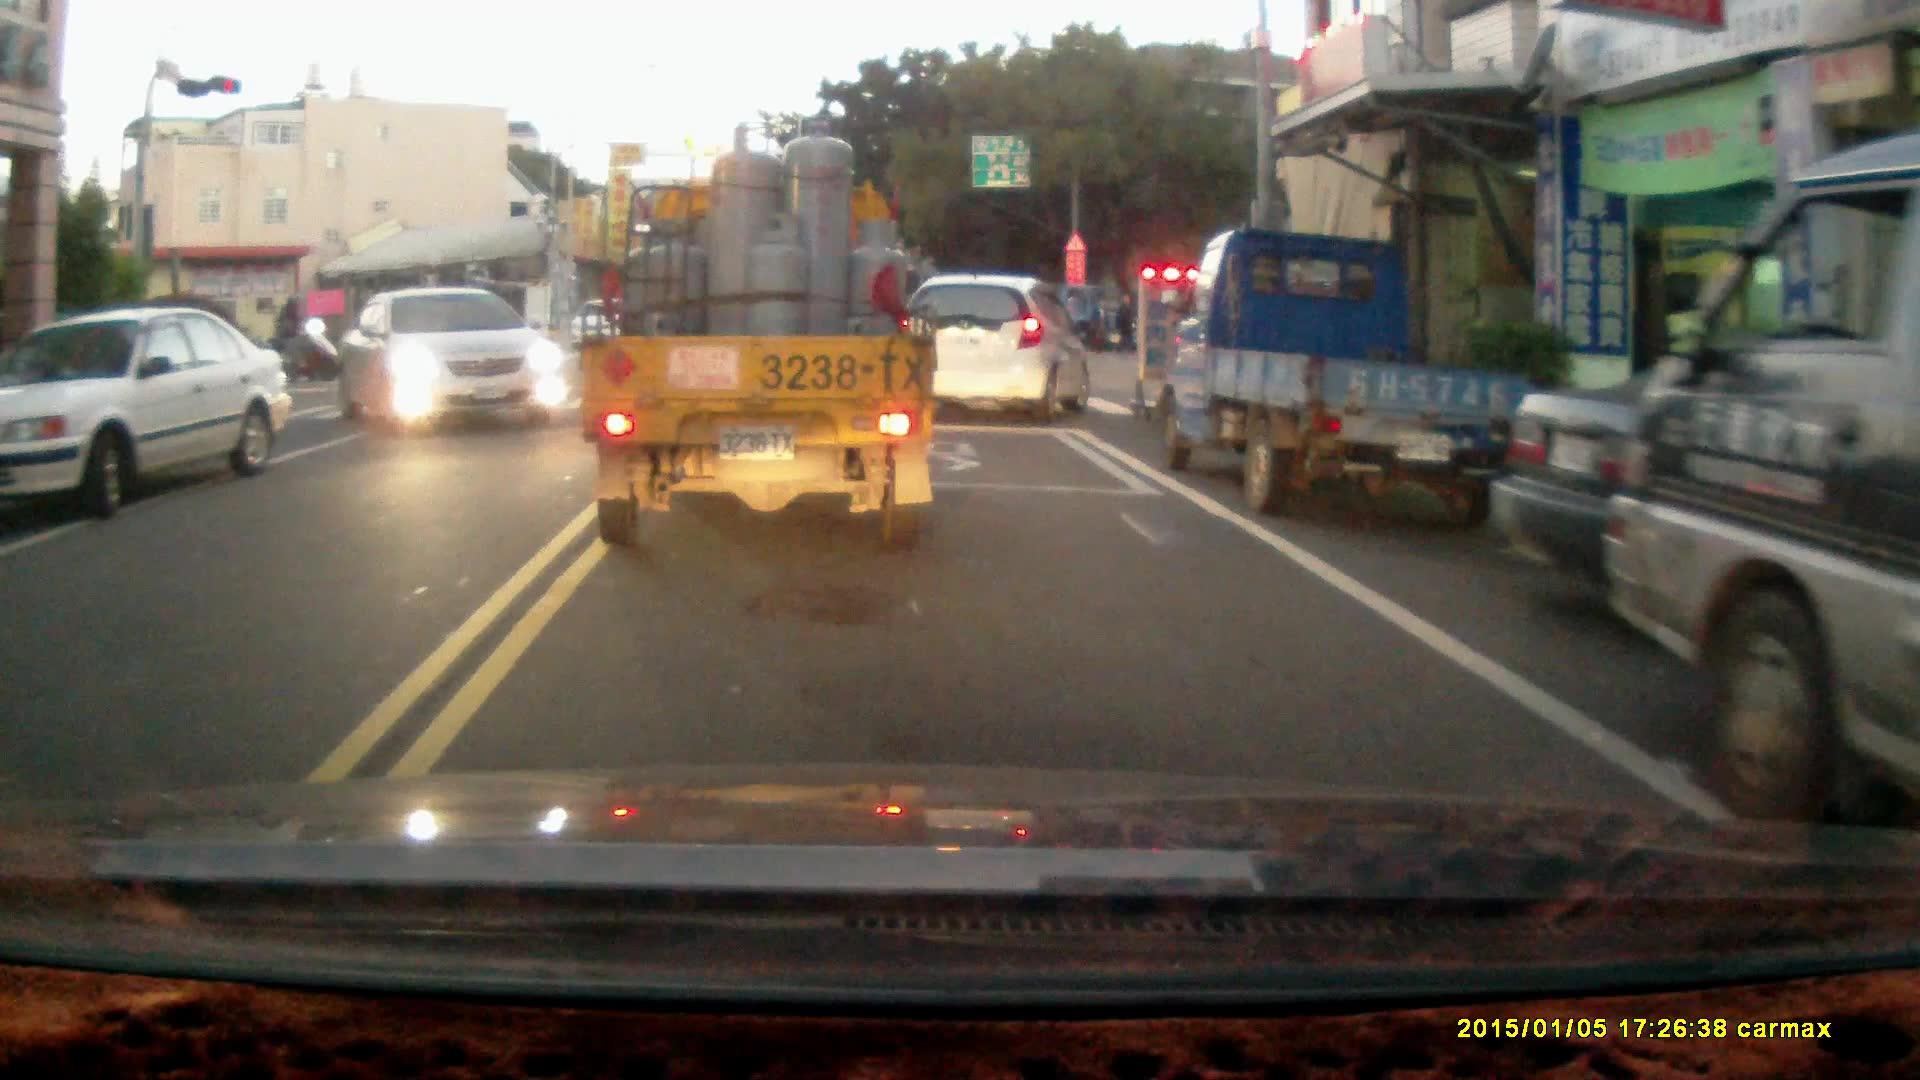rider: (254, 298, 338, 387)
vehicle: (1599, 137, 1920, 796), (577, 116, 941, 554), (1166, 230, 1533, 532), (8, 312, 289, 514), (334, 289, 571, 430), (897, 275, 1100, 422)
